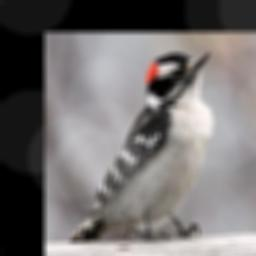Woodpecker: (69, 51, 216, 244)
